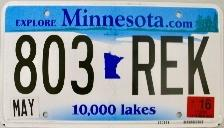0: (42, 34, 68, 96)
3: (70, 34, 97, 96)
8: (14, 34, 41, 95)
E: (159, 34, 186, 96)
K: (187, 34, 213, 96)
R: (128, 33, 160, 96)
